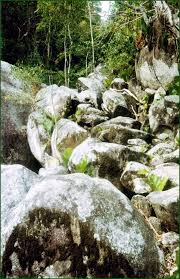stone: (1, 169, 169, 274), (22, 73, 78, 163), (114, 154, 173, 198), (95, 84, 143, 123)
